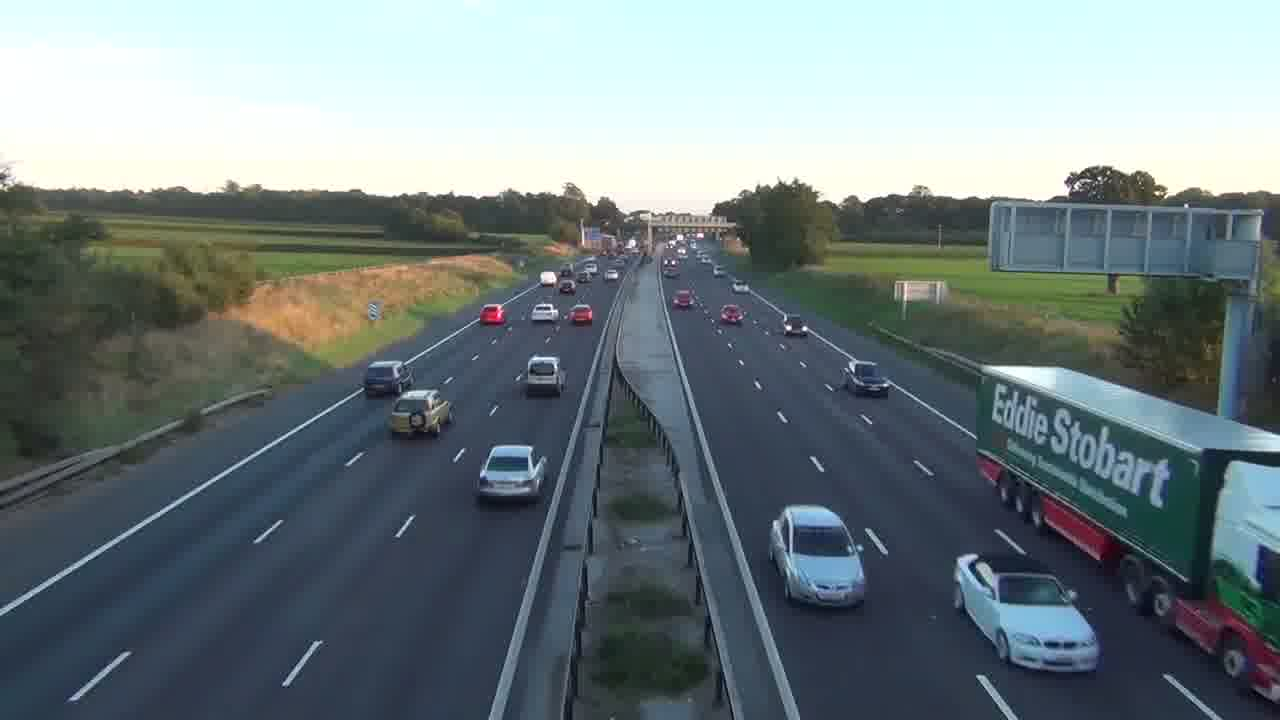car: (953, 552, 1103, 674), (768, 504, 867, 609), (476, 444, 549, 504), (386, 389, 452, 438), (842, 359, 892, 398), (524, 353, 566, 397), (363, 360, 409, 398), (567, 304, 593, 326), (672, 288, 694, 309)
truck: (974, 364, 1279, 704)
